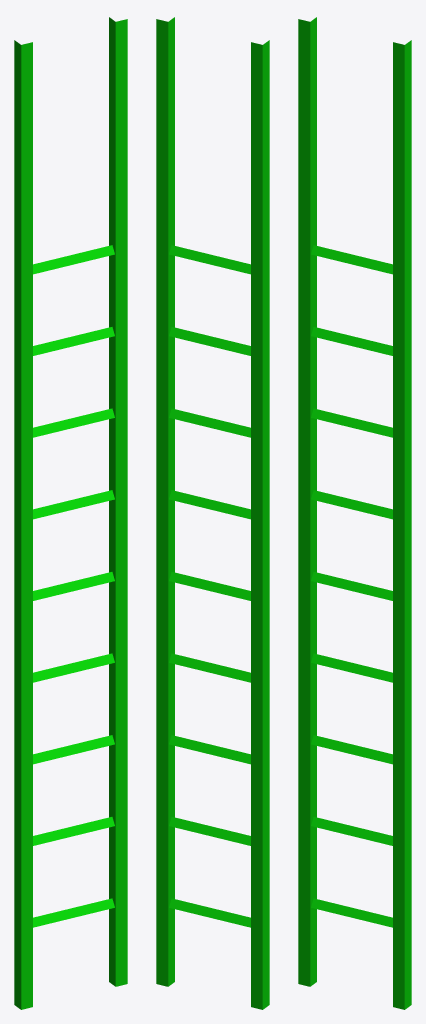
File: ladder.glb
3 renders of one model, left to right at view 1: azimuth 30°, elevation 25°; view 2: azimuth 150°, elevation 25°; view 3: azimuth 330°, elevation 25°, orthographic.
Visible parts, largest first — view 1: ladder; view 2: ladder; view 3: ladder.
Part boxes in pixels (box(x1,y1,x2,y2)): ladder: box(14, 17, 127, 1009); ladder: box(156, 17, 269, 1009); ladder: box(298, 17, 411, 1009).
Size of the model in its own units: 0.45 by 3.9 by 0.05.
